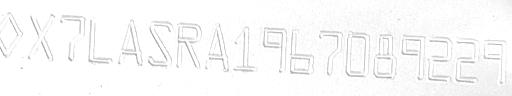letter: (26, 9, 56, 61), (286, 26, 318, 74), (113, 16, 143, 67), (144, 18, 174, 68), (58, 12, 86, 64), (370, 31, 400, 79), (174, 20, 202, 71), (202, 21, 230, 71), (86, 13, 112, 65), (260, 24, 288, 72), (342, 30, 370, 78), (397, 32, 425, 80), (315, 27, 343, 74), (452, 37, 480, 83), (232, 24, 258, 72), (426, 33, 452, 81), (481, 36, 507, 84)
